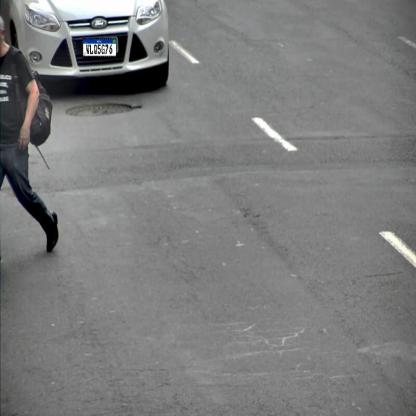PlacaM: (82, 38, 116, 57)
